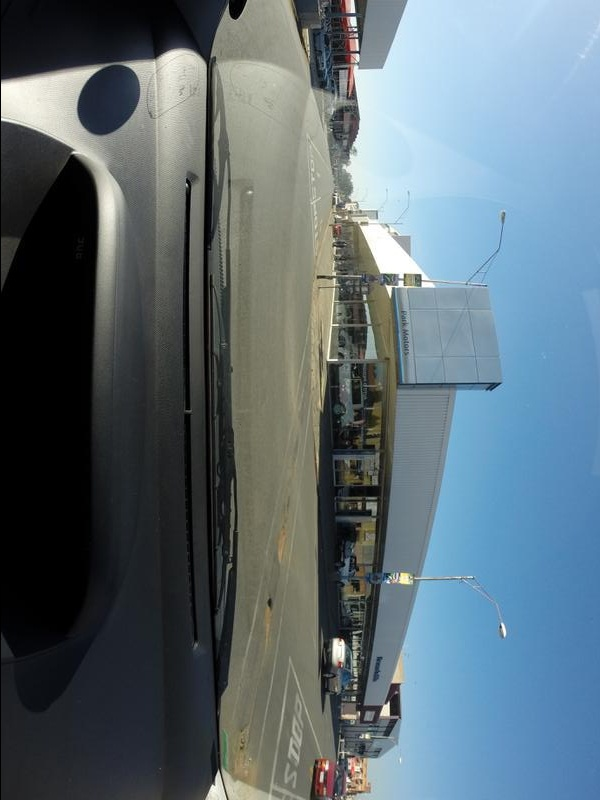pothole: (265, 520, 302, 577), (228, 720, 260, 776), (257, 595, 282, 642)
